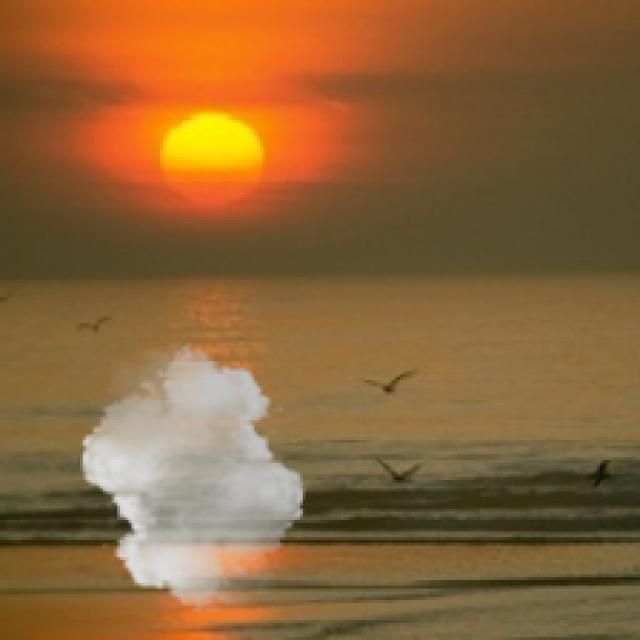Smoke: (72, 343, 314, 611)
